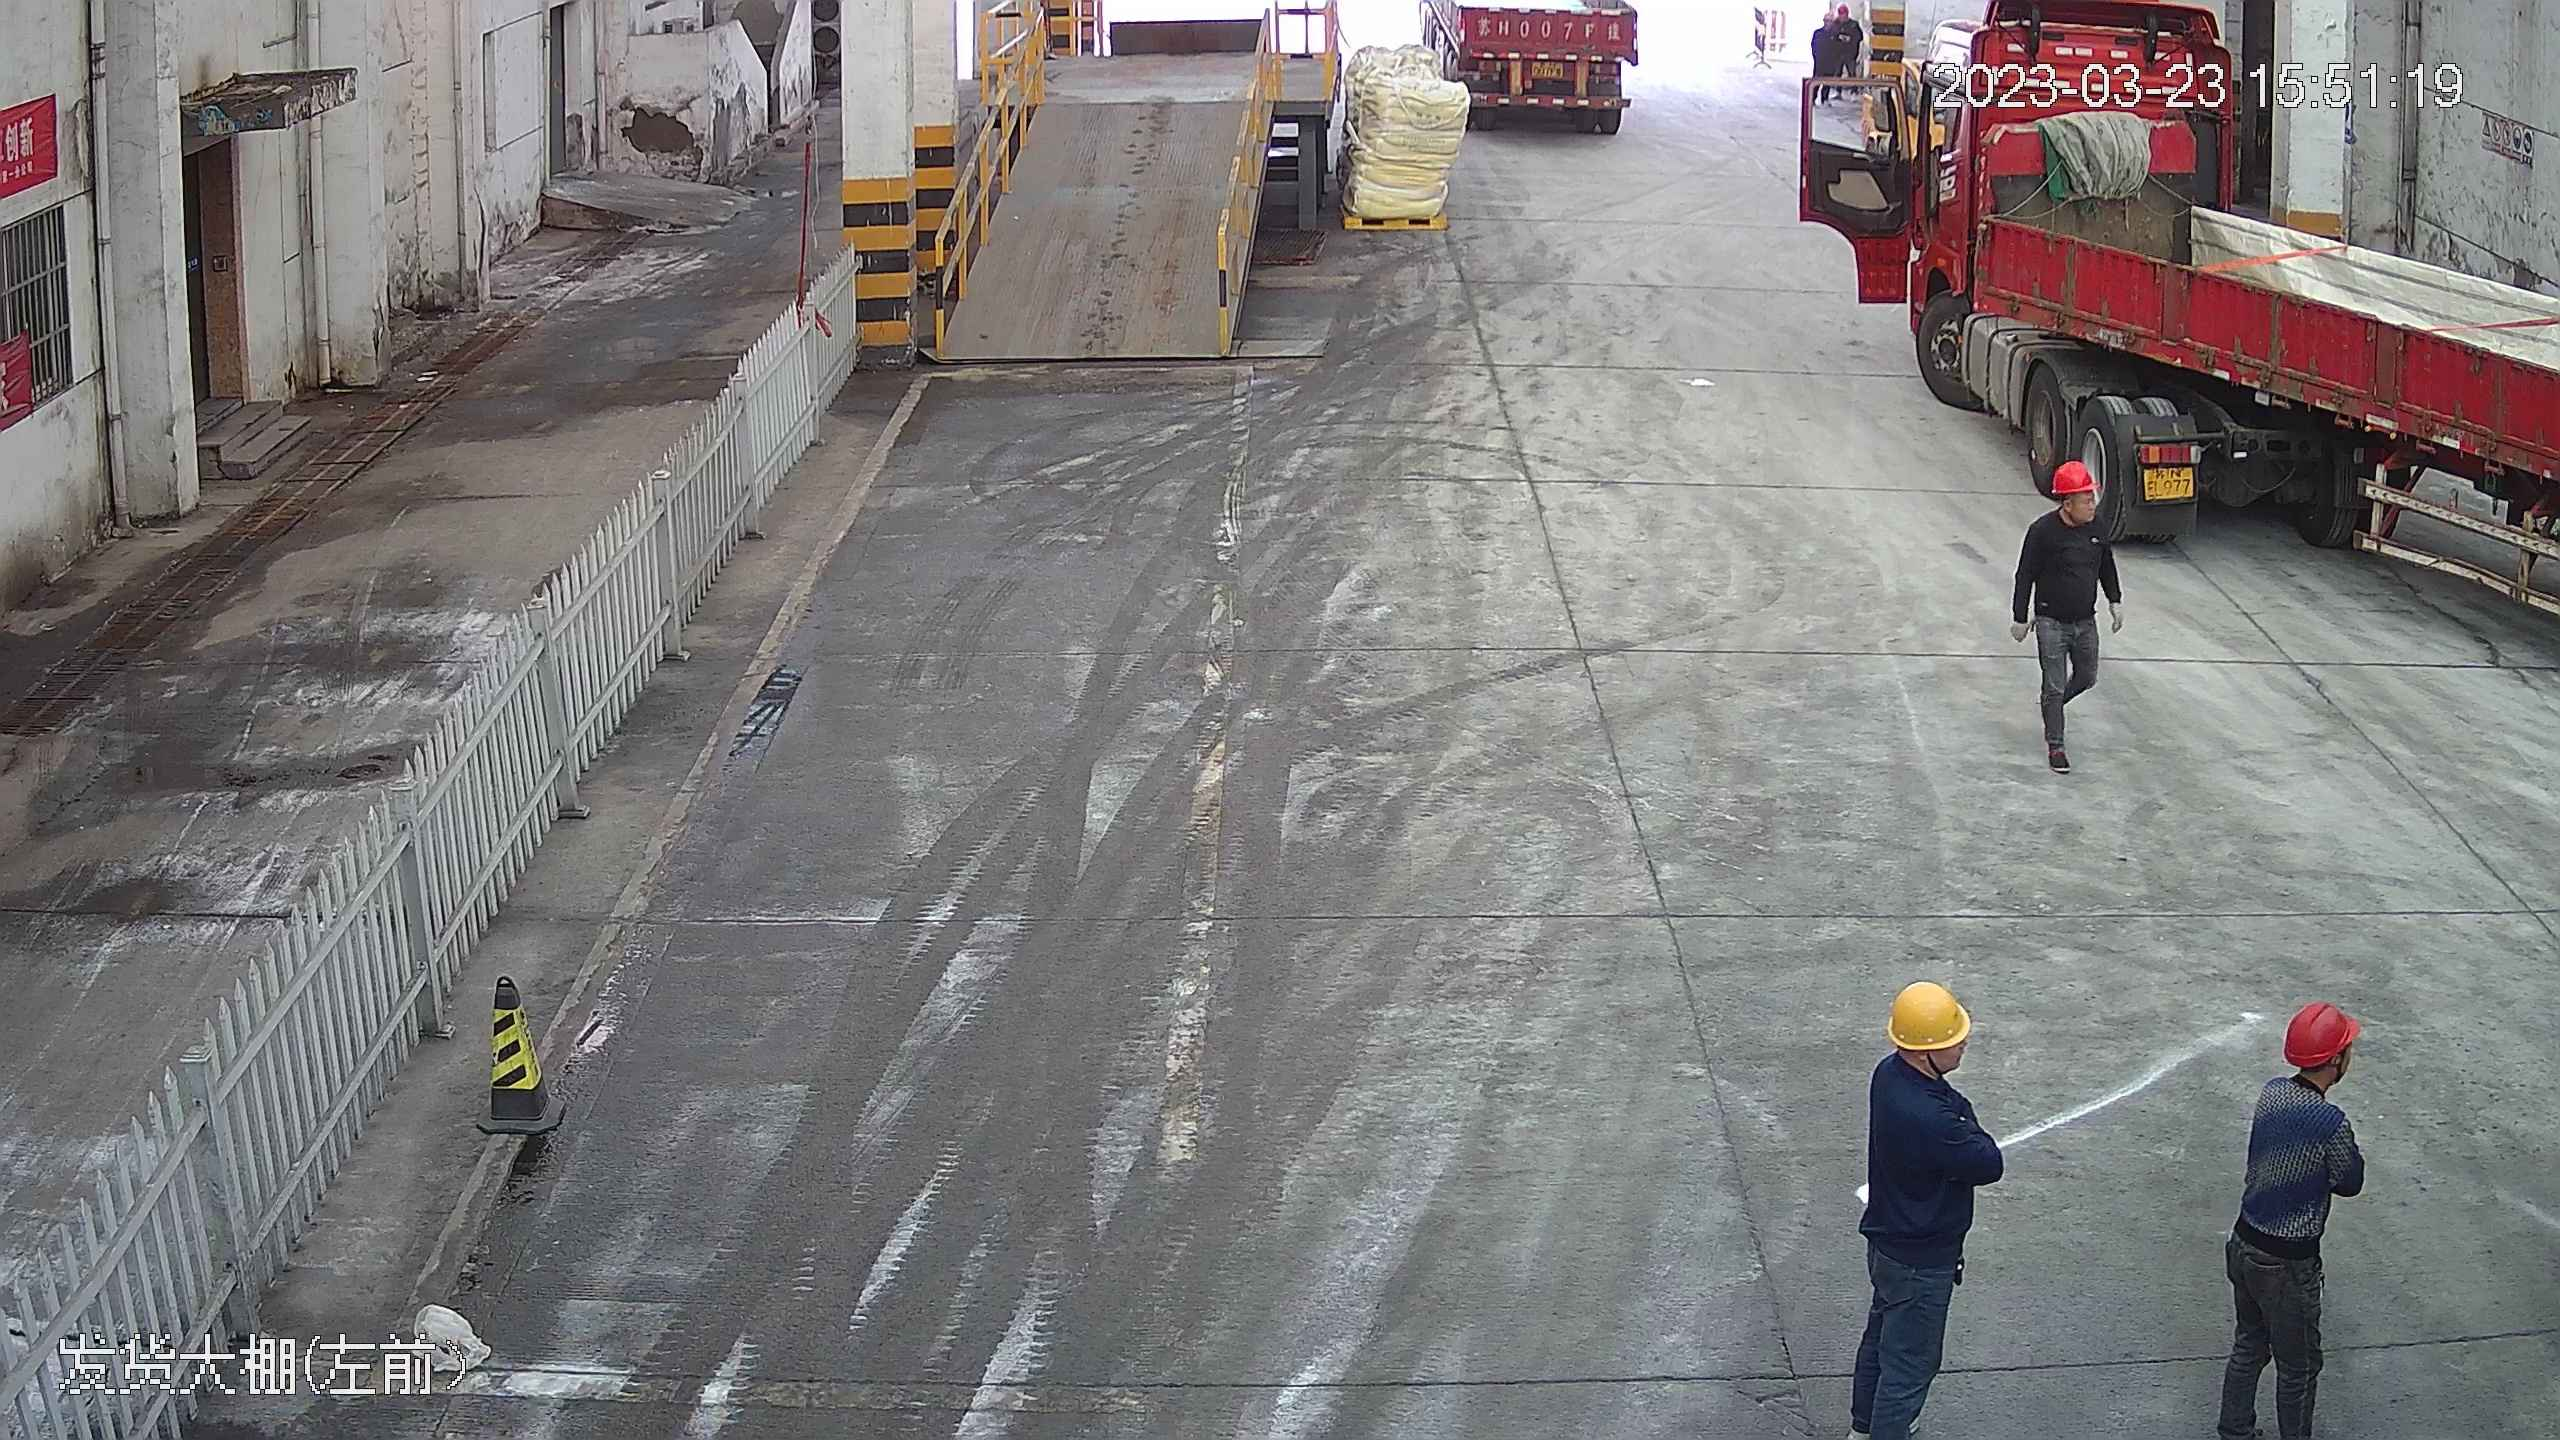head: (1866, 976, 1993, 1159), (2241, 999, 2366, 1162), (2021, 457, 2119, 563)
helmet: (1884, 977, 1975, 1050), (2281, 998, 2363, 1073), (2048, 458, 2101, 494), (1836, 4, 1847, 18), (1823, 13, 1832, 21)
people: (1844, 974, 2010, 1431), (2211, 997, 2368, 1438), (2008, 453, 2125, 778)
truck: (1860, 8, 2560, 611), (1418, 1, 1654, 148)
